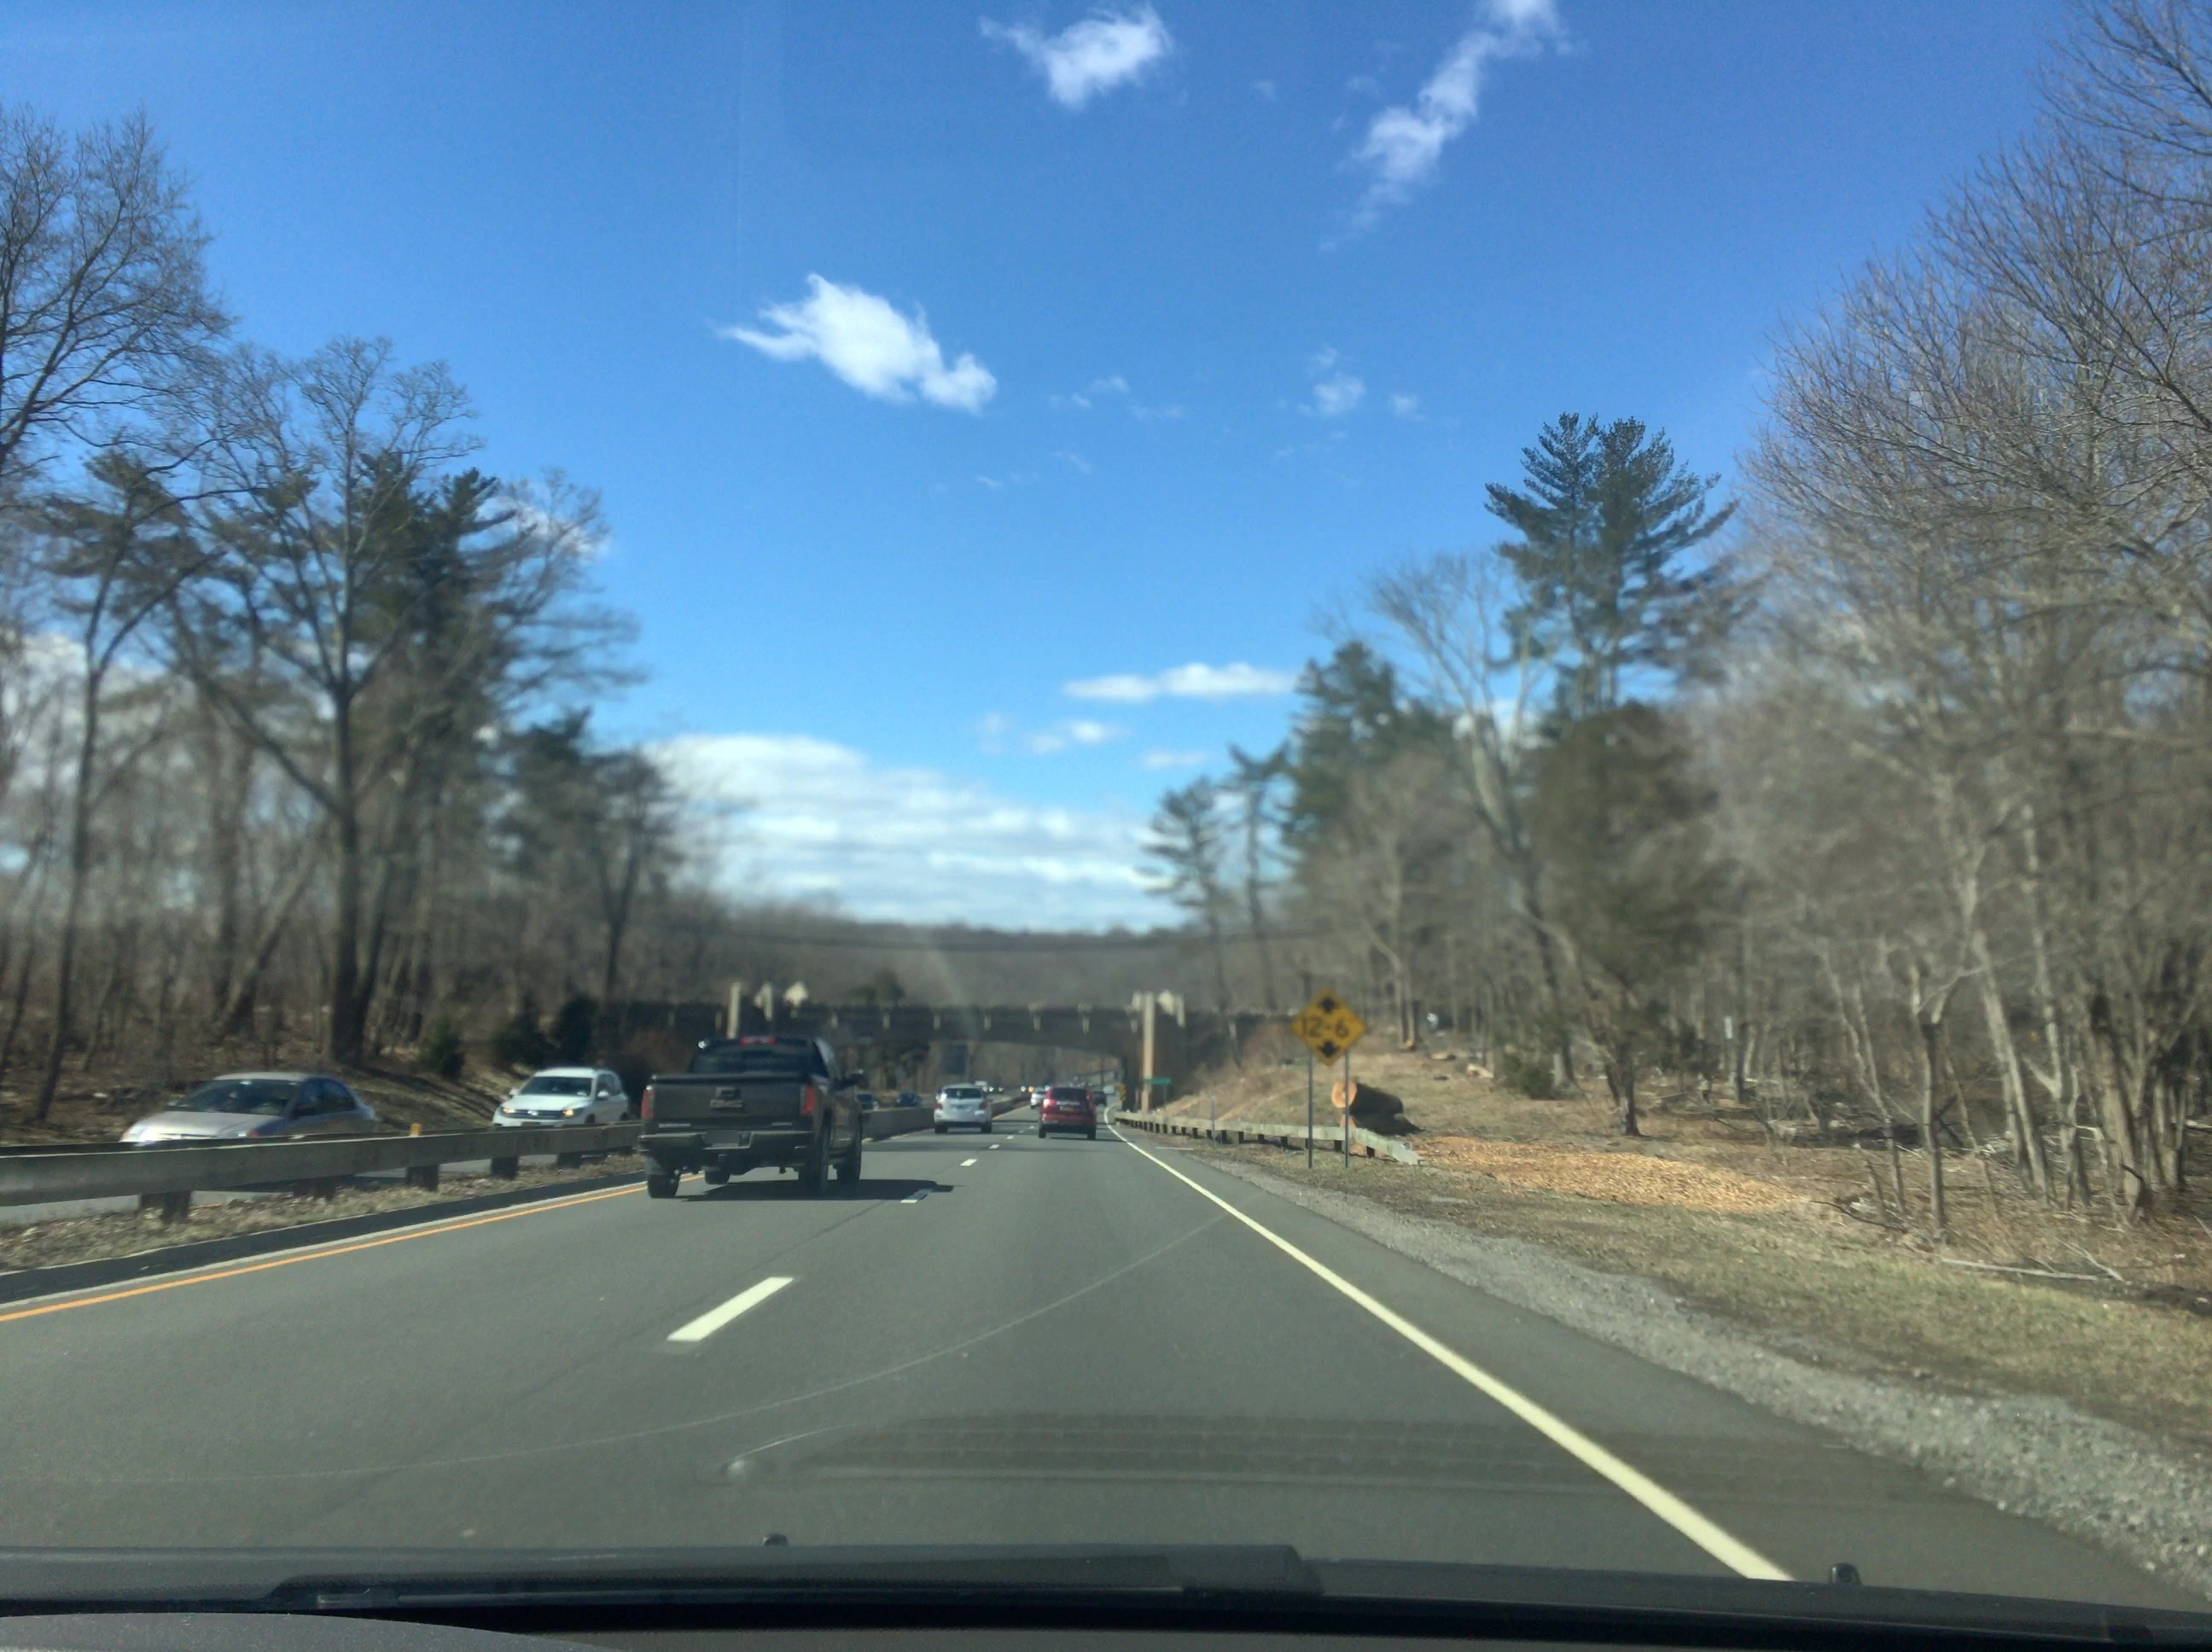low-clearance-sign: (1287, 984, 1369, 1069)
